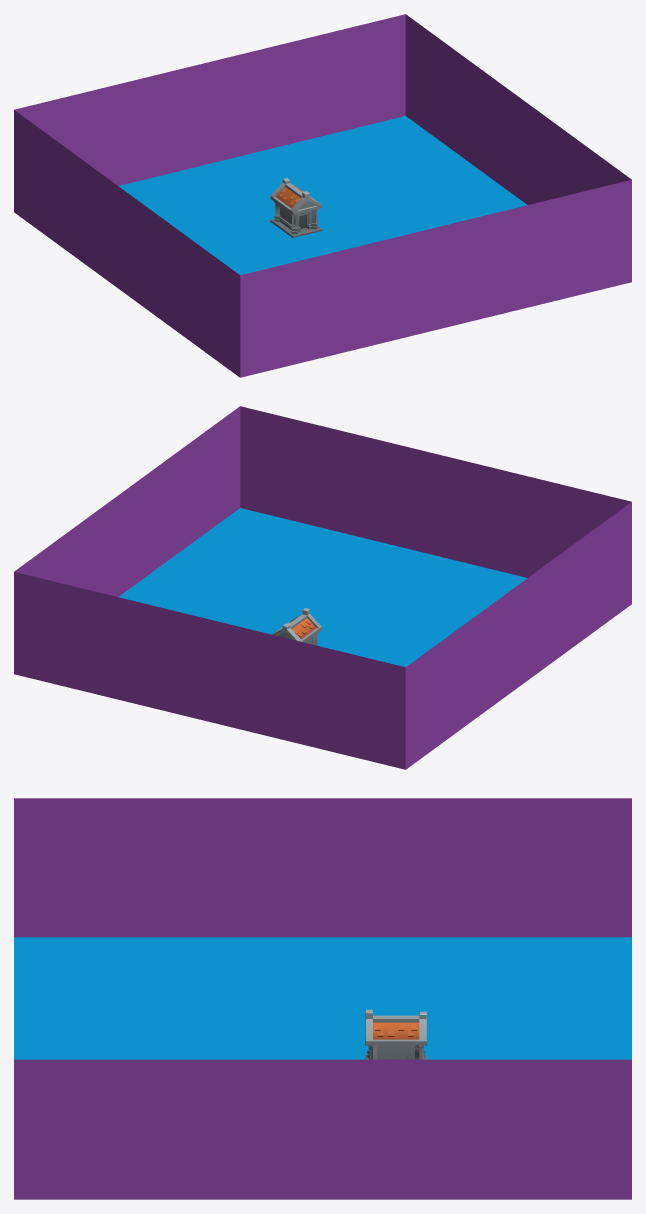
Rendered from map2.glb.
3 views of the same model, one above another, from view 1: azimuth 30°, elevation 25°; view 2: azimuth 150°, elevation 25°; view 3: azimuth 270°, elevation 25° (orthographic). The views are drawn at different scales.
Parts seen in each view (by area): view 1: Plane.003, Plane.001, Plane, Plane.002, Plane.004, crypt; view 2: Plane.001, Plane.003, Plane, Plane.002, Plane.004, crypt; view 3: Plane.004, Plane.002, Plane, crypt.
Boxes of the visible parts, x1,y1,x2,y2 form: Plane.003: (240,180,631,377); Plane.001: (14,14,405,185); Plane: (118,116,527,275); Plane.002: (14,110,240,377); Plane.004: (405,14,631,204); crypt: (270,178,322,237); Plane.001: (14,572,405,769); Plane.003: (240,406,631,577); Plane: (118,508,527,667); Plane.002: (405,502,631,769); Plane.004: (14,406,240,596); crypt: (272,608,321,645); Plane.004: (14,1059,631,1199); Plane.002: (14,798,631,937); Plane: (14,937,631,1059); crypt: (365,1009,426,1059).
Size of the model in its own units: 80 by 20 by 80.
Materials: 6 (1 with a texture image).
